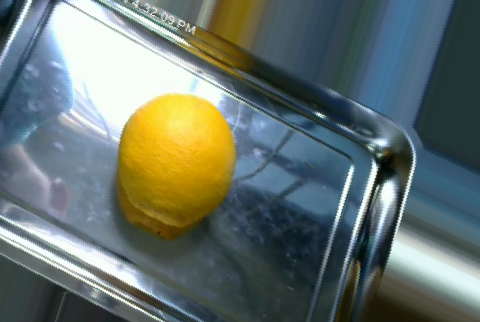Orange: (118, 94, 235, 226)
